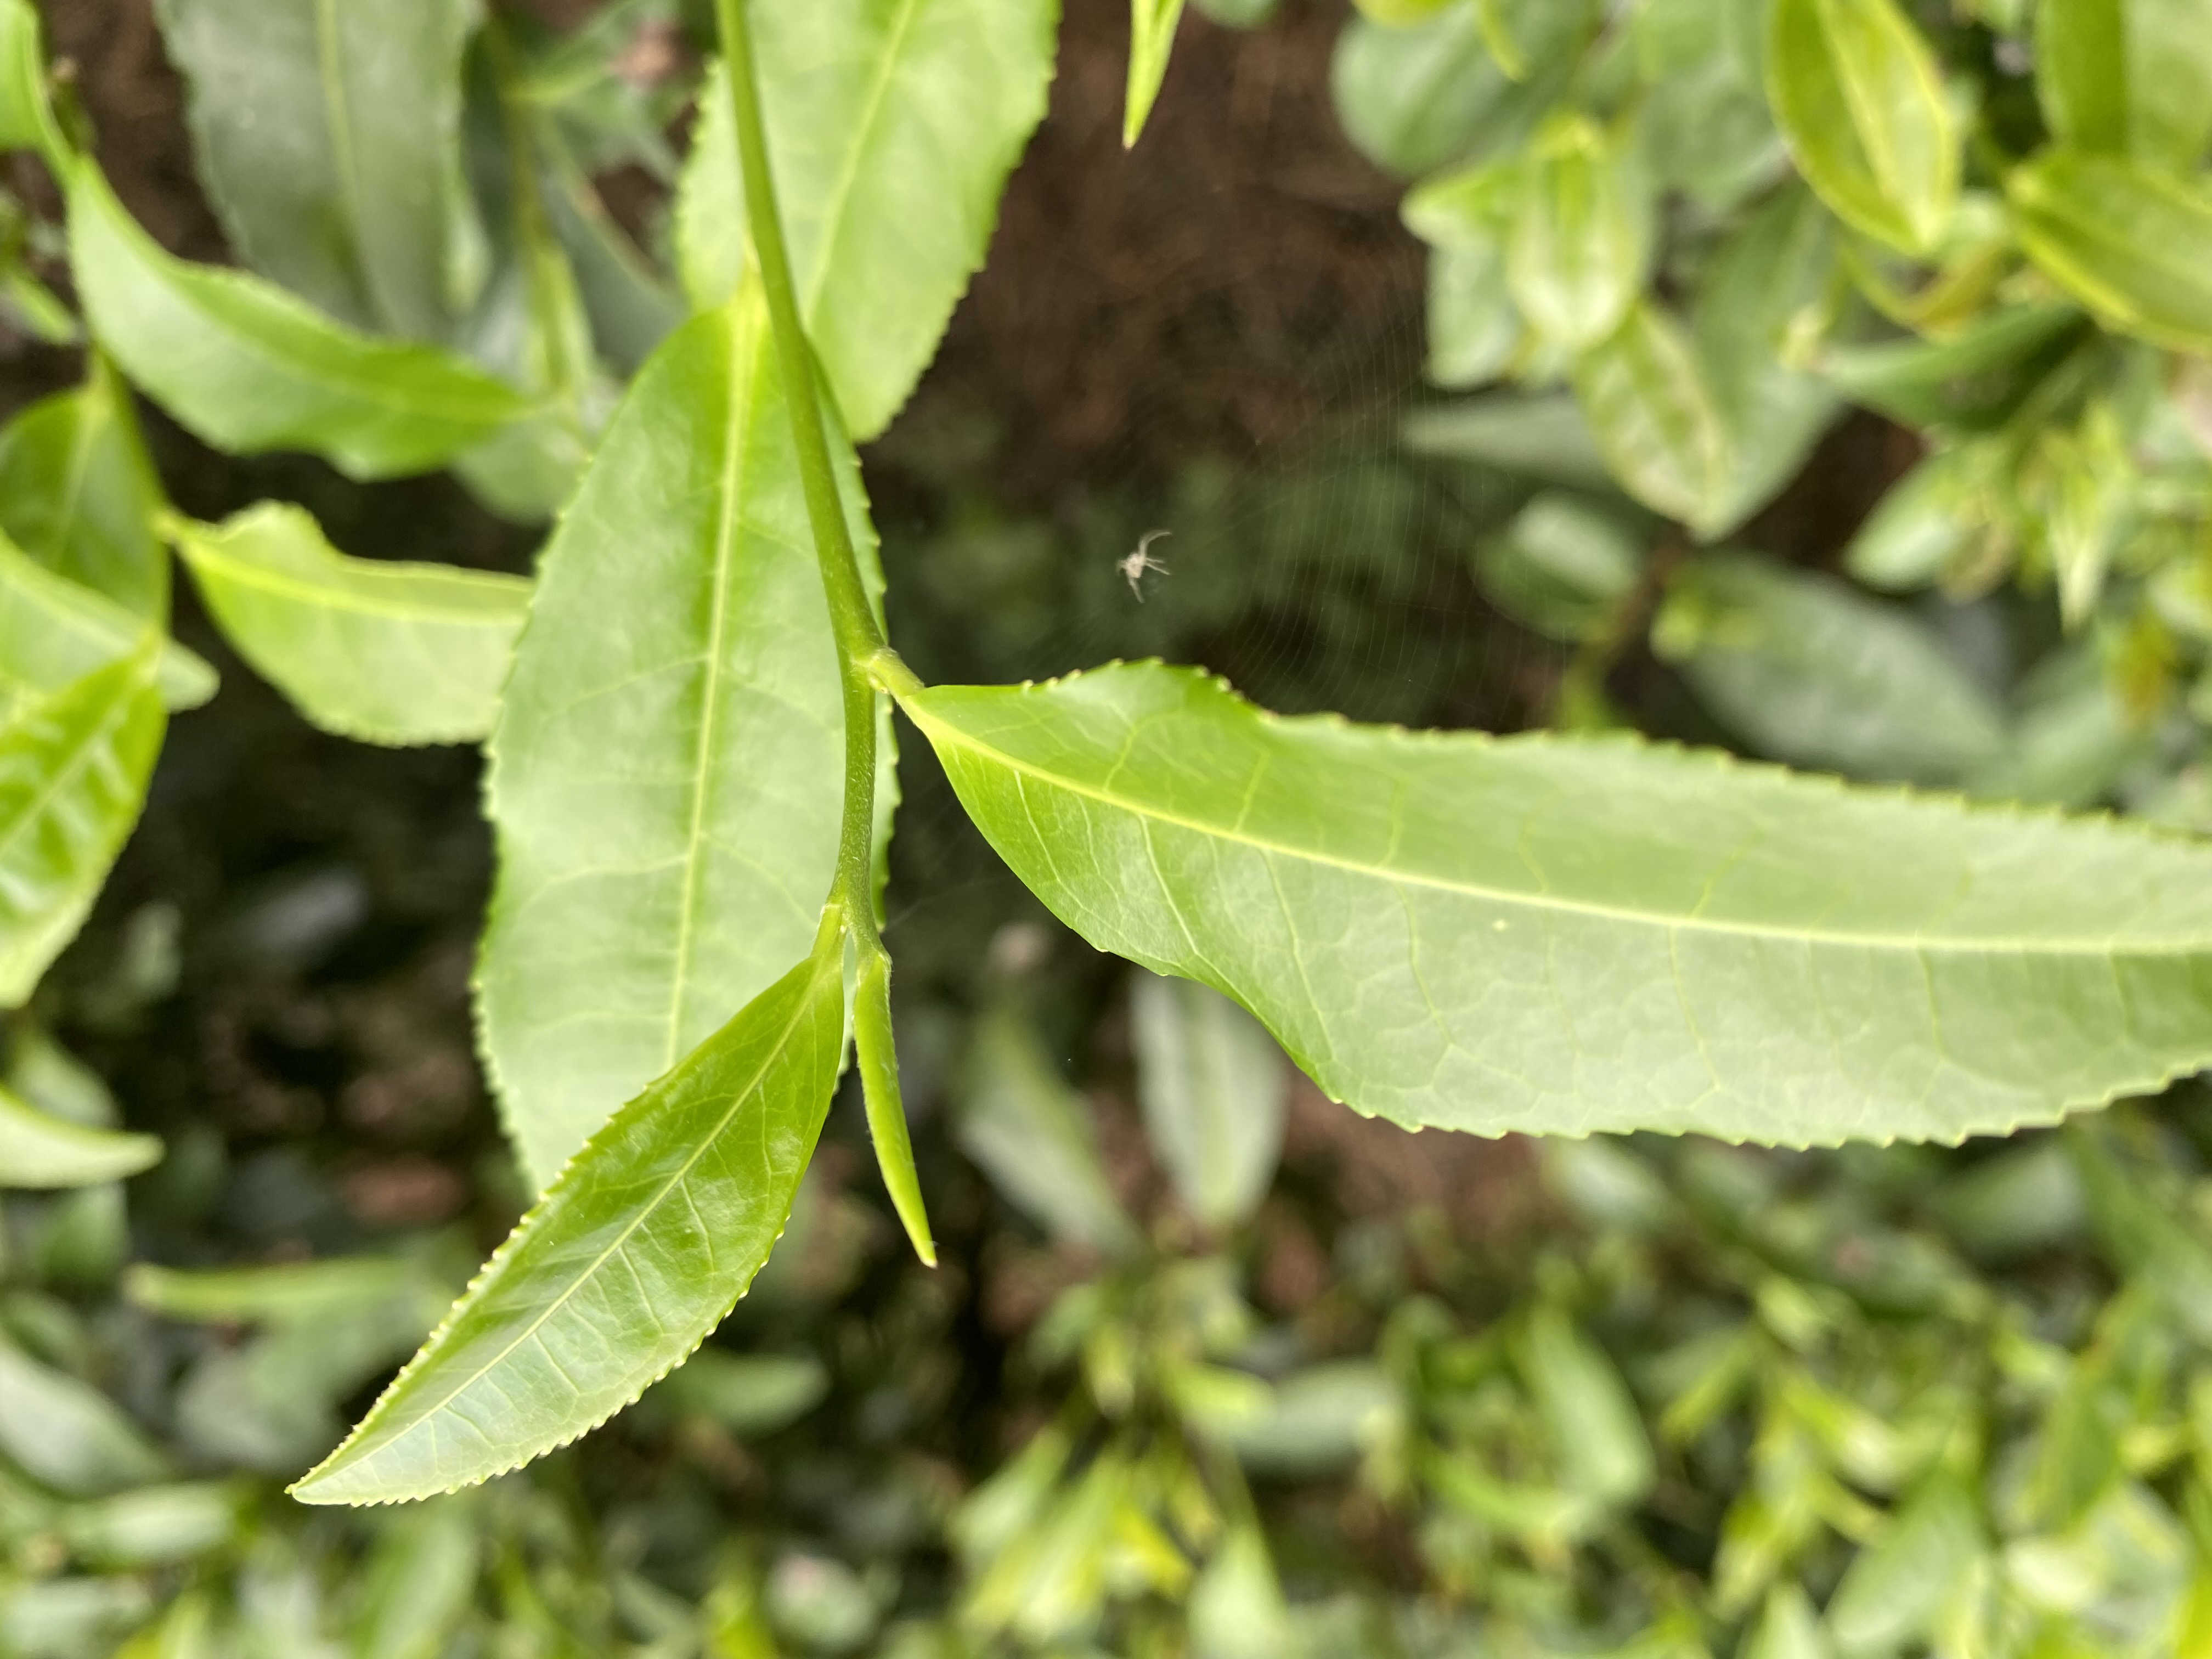healthy: (916, 655, 2212, 1159), (286, 960, 845, 1507)
